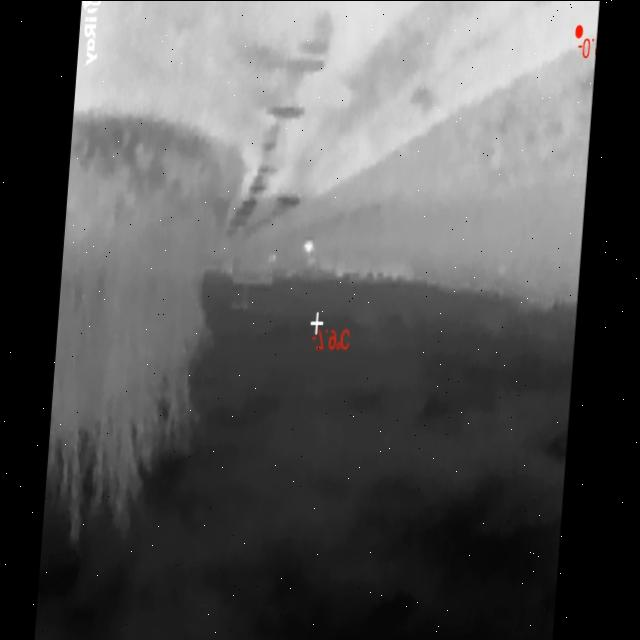drone: (307, 237, 318, 254)
